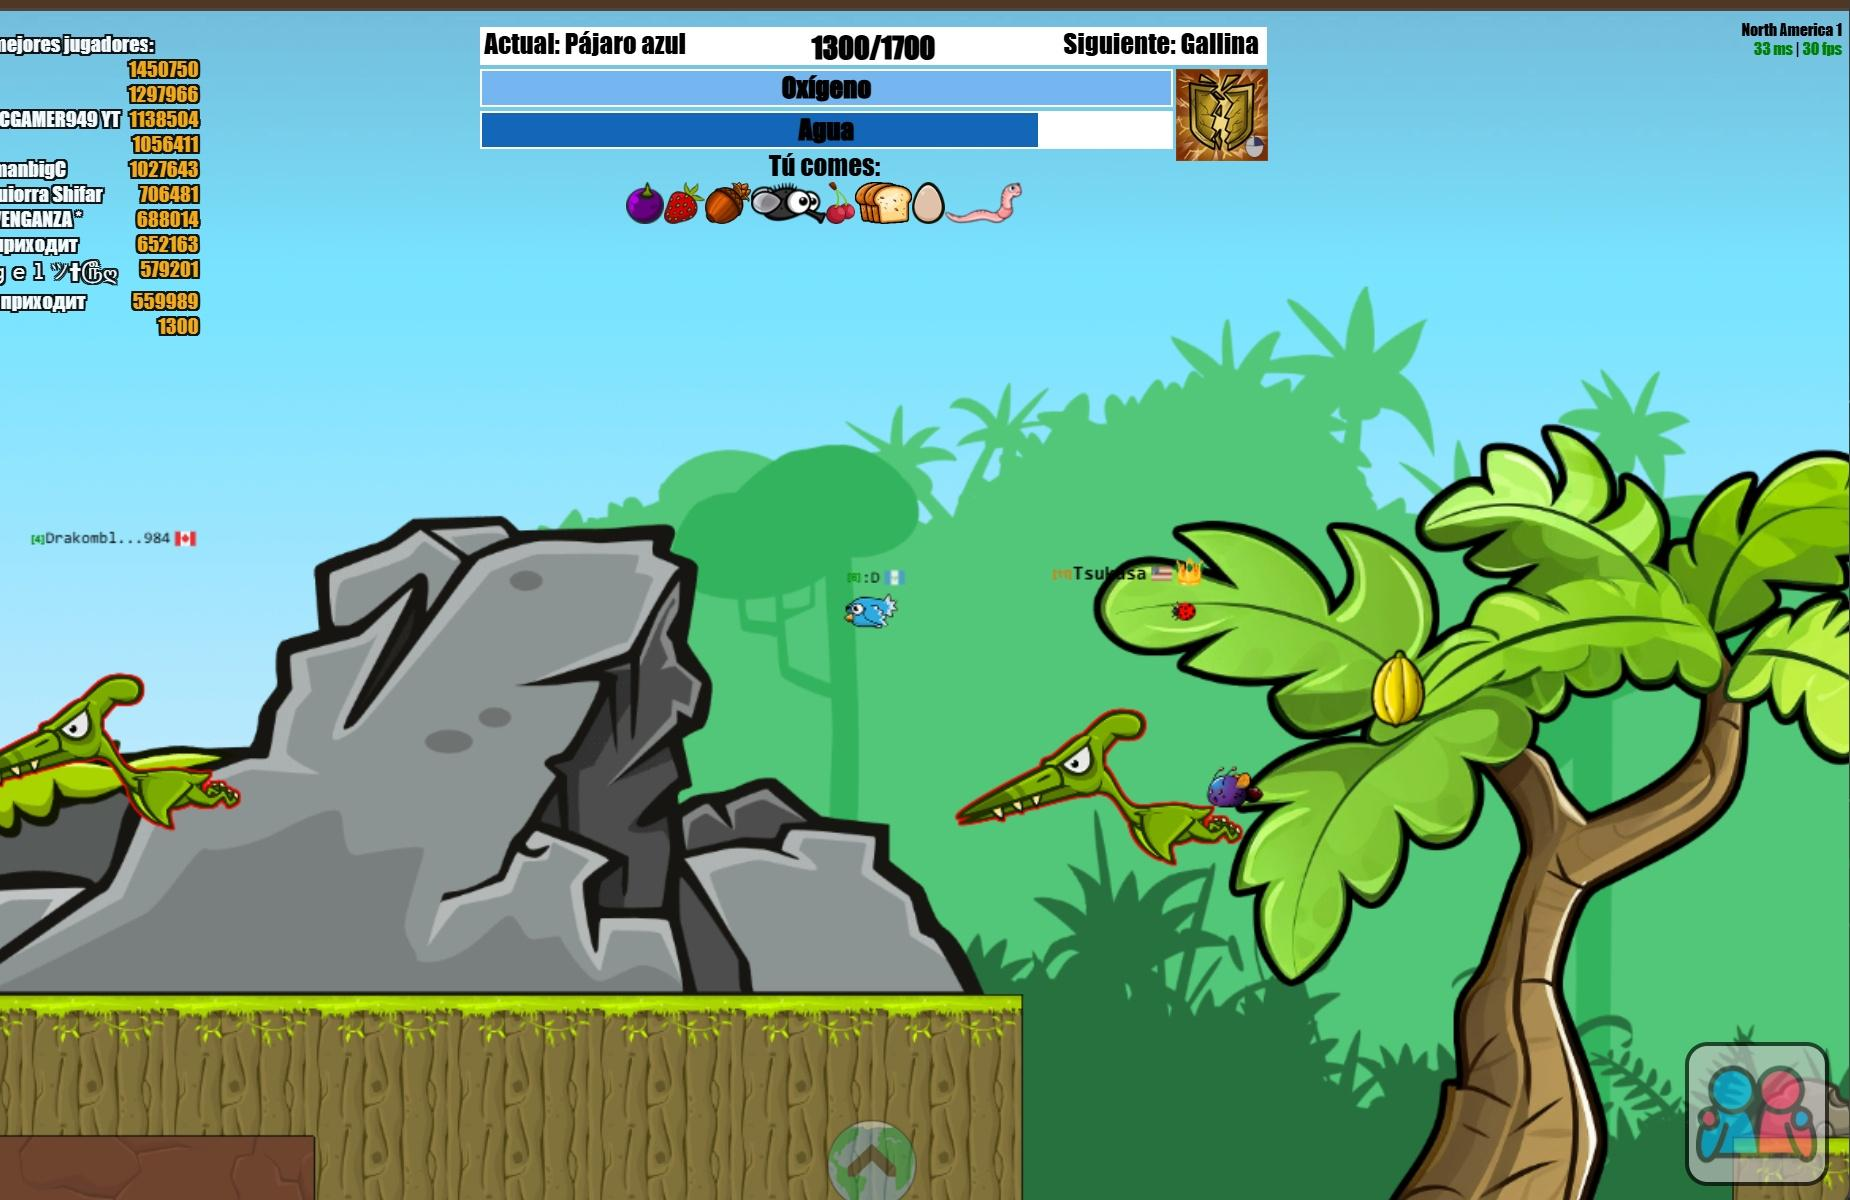arandano: (626, 183, 663, 222)
avellana: (704, 183, 748, 222)
cacao: (1373, 649, 1424, 725)
fresa: (663, 191, 696, 222)
guinda: (825, 204, 854, 222)
gusano: (948, 183, 1021, 222)
huevo: (912, 182, 944, 222)
mariquita: (1173, 601, 1195, 620)
mosca: (750, 186, 823, 220)
p_azul: (844, 595, 898, 630)
pan: (856, 183, 910, 222)
pterodactilo: (956, 709, 1242, 864), (5, 665, 225, 820)
suelo: (5, 995, 1029, 1134)
